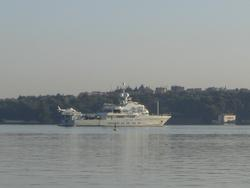yacht: (58, 89, 178, 130)
